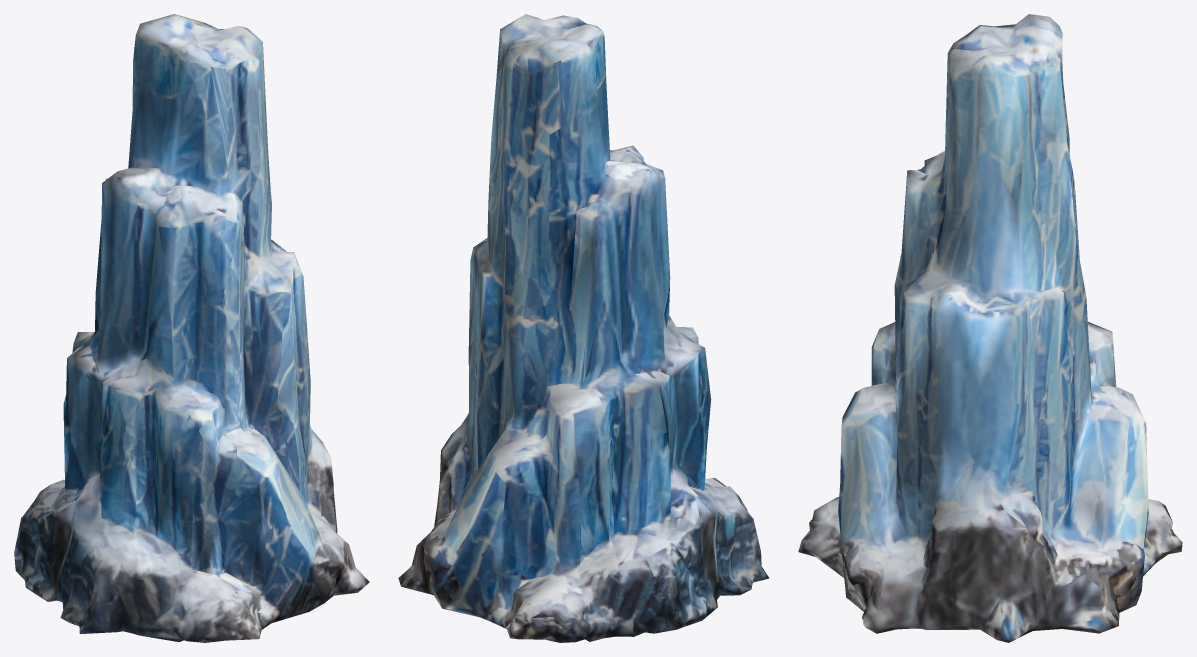
The model's file is SecondRoom_IceColumn.fbx.
3 renders of one model, left to right at view 1: azimuth 30°, elevation 25°; view 2: azimuth 150°, elevation 25°; view 3: azimuth 270°, elevation 25°, orthographic. The views are drawn at different scales.
Visible parts, largest first — view 1: SecondRoom_IceColumn_Mesh; view 2: SecondRoom_IceColumn_Mesh; view 3: SecondRoom_IceColumn_Mesh.
Boxes of the visible parts, <box> form: SecondRoom_IceColumn_Mesh: <box>14,14,369,642</box>; SecondRoom_IceColumn_Mesh: <box>398,14,769,642</box>; SecondRoom_IceColumn_Mesh: <box>798,14,1182,642</box>.
Bounding box in the file's own units: 3.39 × 6 × 3.78.
1 material, 1 textured.
